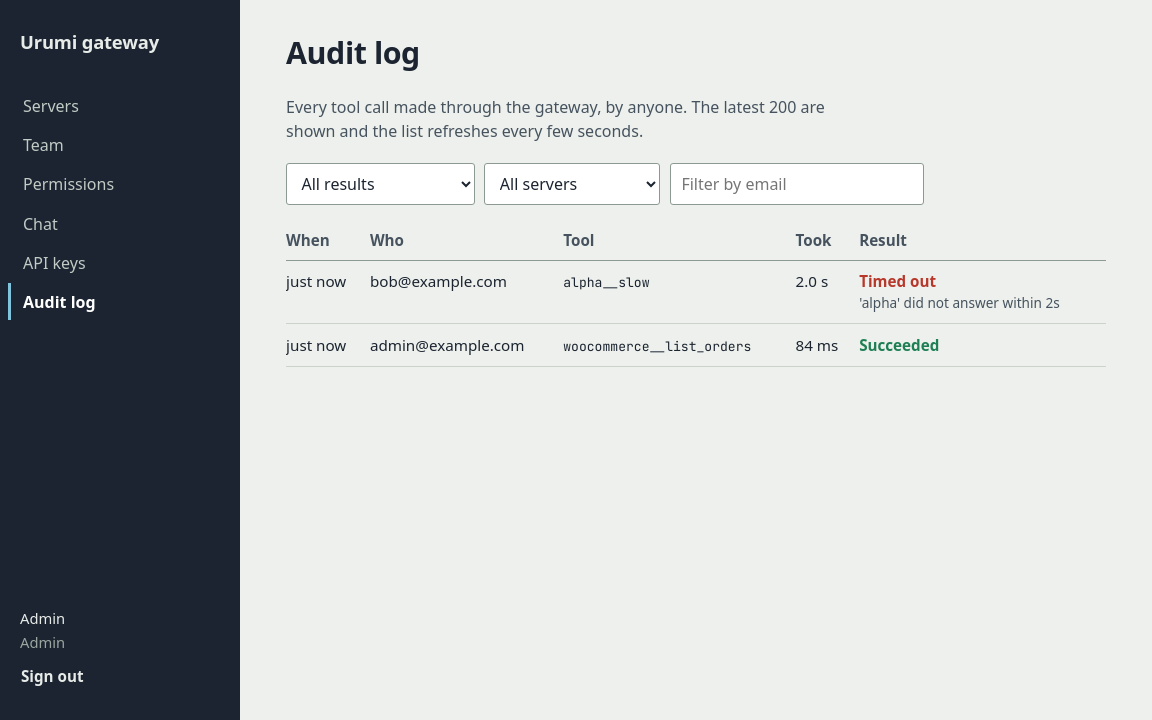
Test case: audit log › shows who did what, and filters by result
The width and height of the screenshot is (1152, 720).
Expected: the text "woocommerce__list_orders" is shown, x1=563 y1=338 x2=751 y2=355
Expected: the text "84 ms" is shown, x1=796 y1=324 x2=859 y2=367
Select "Timed out" in the 1st dropdown named "Result". click: [380, 184]
box: x1=286 y1=163 x2=475 y2=205
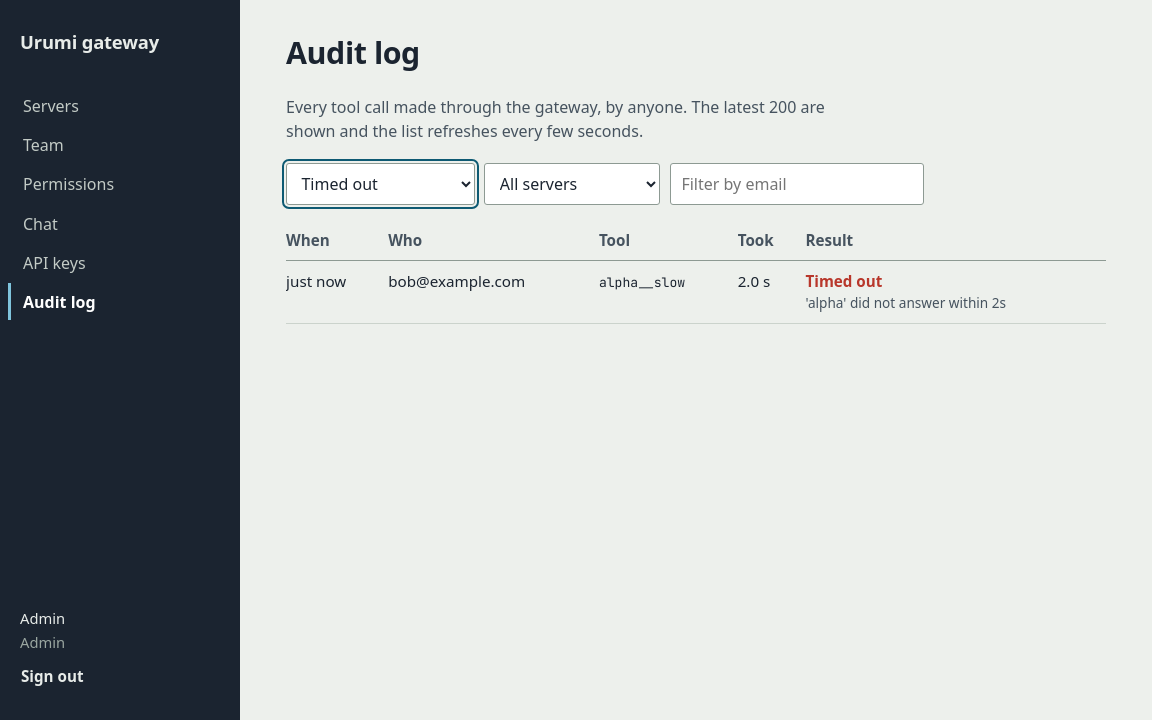
Expected: the text "alpha__slow" is shown, x1=599 y1=274 x2=685 y2=291
Expected: the text "woocommerce__list_orders" is gone
